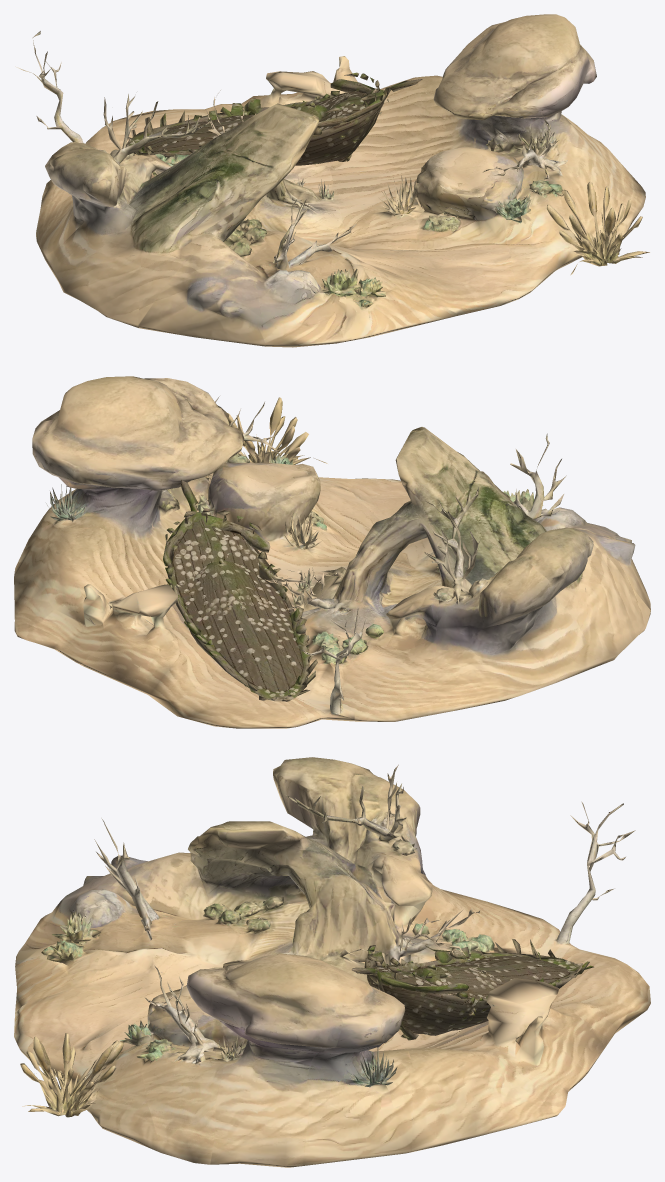
The model's file is floor-lo.glb.
The picture shows the model from 3 angles, top to bottom: view 1: azimuth 30°, elevation 25°; view 2: azimuth 150°, elevation 25°; view 3: azimuth 270°, elevation 25°; orthographic projection. The views are drawn at different scales.
Visible parts, largest first — view 1: floor, prop-Mesh_0; view 2: floor, prop-Mesh_0; view 3: floor, prop-Mesh_0.
Boxes of the visible parts, x1,y1,x2,y2 form: floor: [15, 14, 649, 347]; prop-Mesh_0: [125, 72, 422, 165]; floor: [14, 376, 650, 728]; prop-Mesh_0: [163, 480, 317, 701]; floor: [14, 757, 650, 1167]; prop-Mesh_0: [352, 939, 593, 1040].
Bounding box in the file's own units: 1 × 0.2779 × 0.8996.
Materials: 2 (2 with a texture image).
